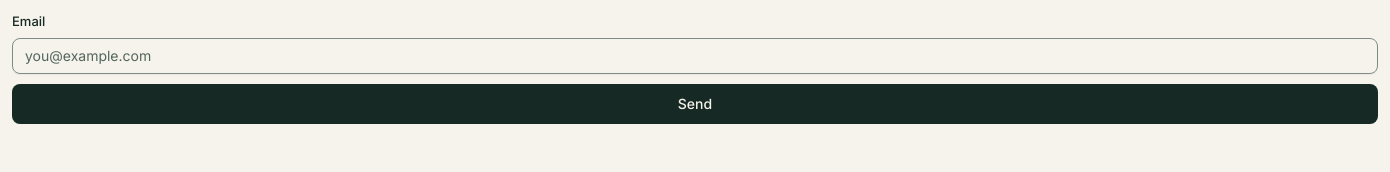
it: sign-in requested › does not fire when refused
Type "a@b.test" into the field labelled "Email". click: point(695, 56)
box: [12,38,1378,74]
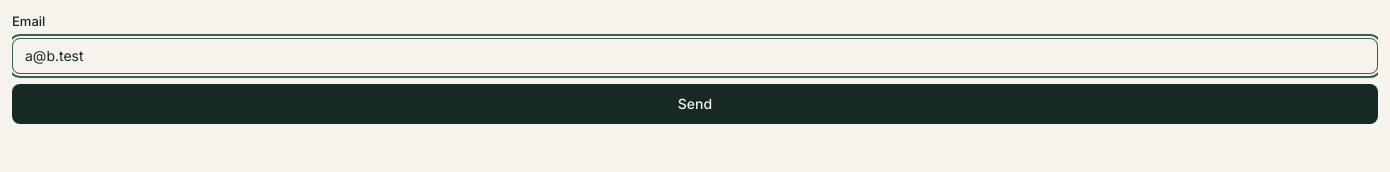
Click the button "Send". click: point(695, 104)
box: [12,84,1378,124]
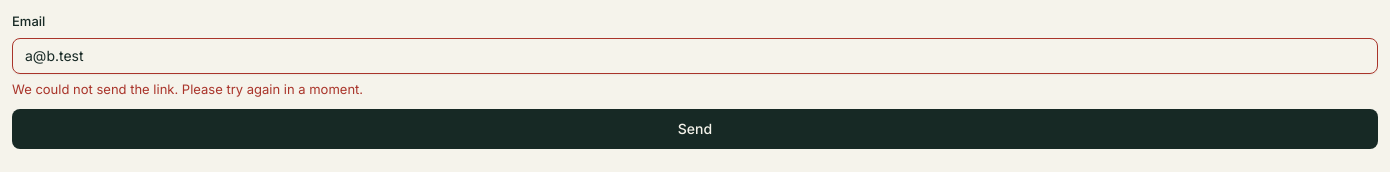
Expected: the message "We could not send the link. Please try again in a moment." is shown, [12,80,363,96]
